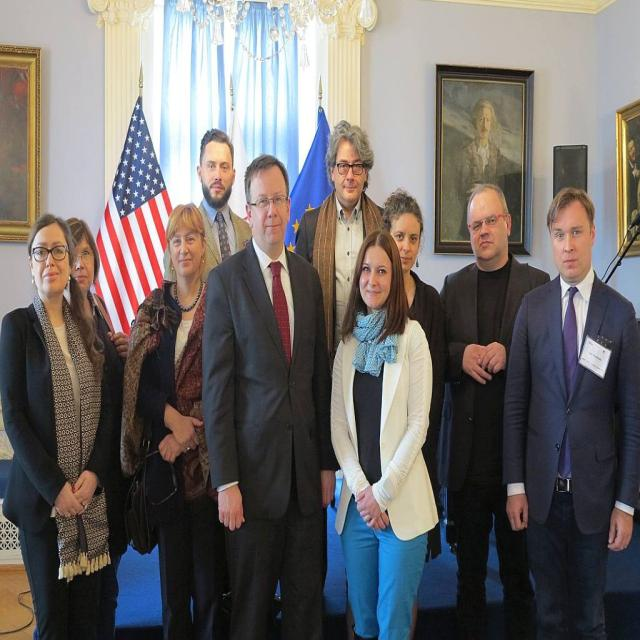body: (197, 146, 342, 639), (497, 182, 639, 639), (1, 212, 127, 640), (437, 180, 552, 640), (326, 221, 443, 639), (120, 199, 226, 640), (54, 215, 130, 579), (294, 117, 391, 372), (377, 188, 449, 526), (161, 125, 254, 288), (452, 85, 510, 239), (624, 116, 639, 243)
